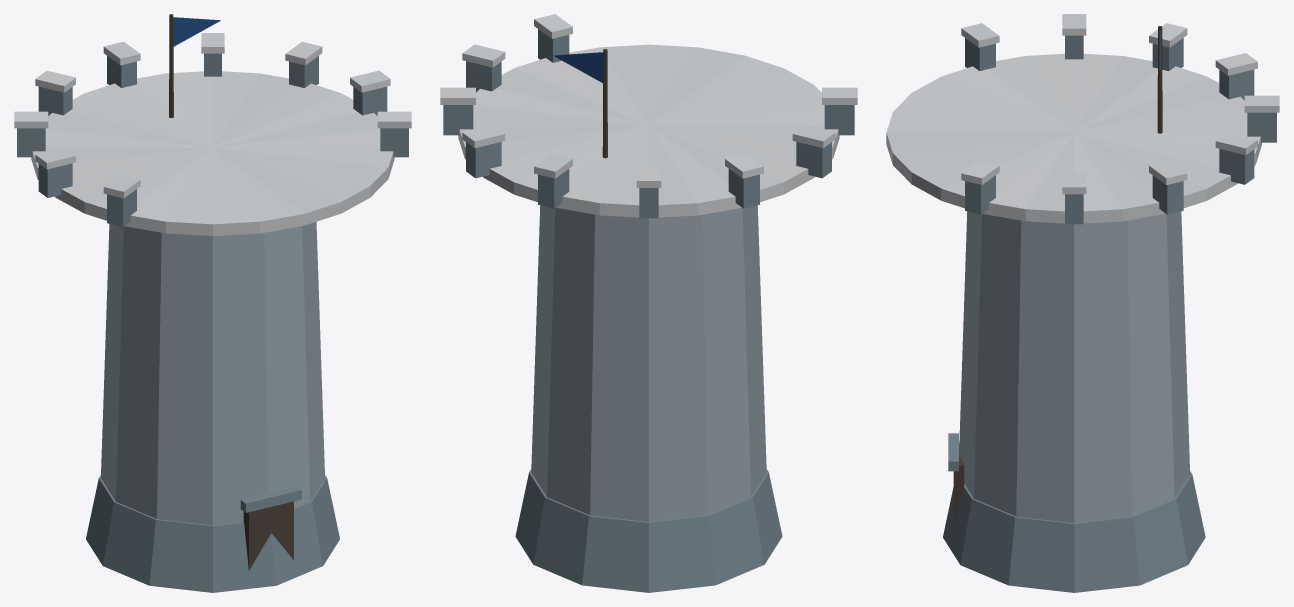
File: tower_snow.glb
The picture shows the model from 3 angles, left to right: view 1: azimuth 30°, elevation 25°; view 2: azimuth 150°, elevation 25°; view 3: azimuth 270°, elevation 25°; orthographic projection. The views are drawn at different scales.
Visible parts, largest first — view 1: tower_snow; view 2: tower_snow; view 3: tower_snow.
Boxes of the visible parts, box(x1,y1,x2,y2) form: tower_snow: box(14, 14, 411, 592); tower_snow: box(440, 14, 857, 592); tower_snow: box(886, 14, 1279, 592).
Size of the model in its own units: 15.3 by 21 by 14.65.
